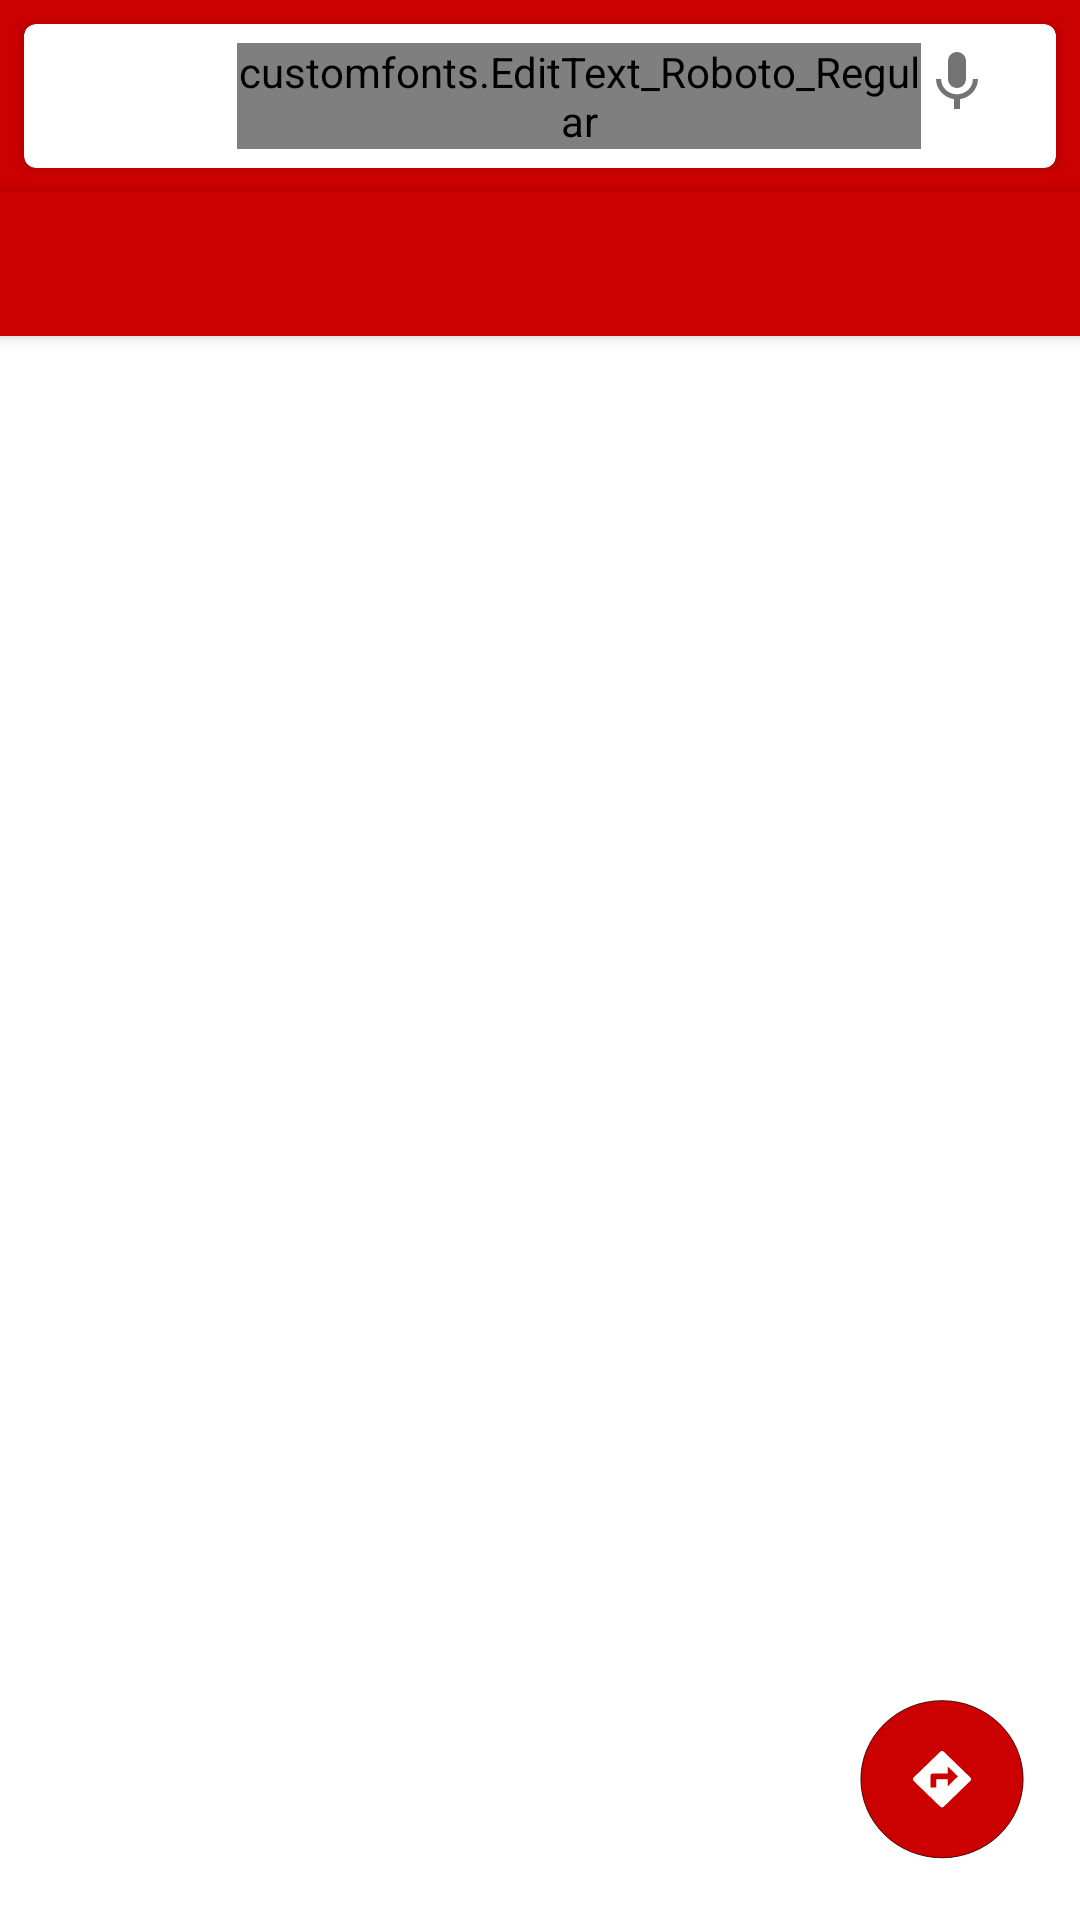

Named icons in this screenshot (1080px x 1920px) and their centers, (x=x, y=y):
keyboard voice: (x=957, y=80)
